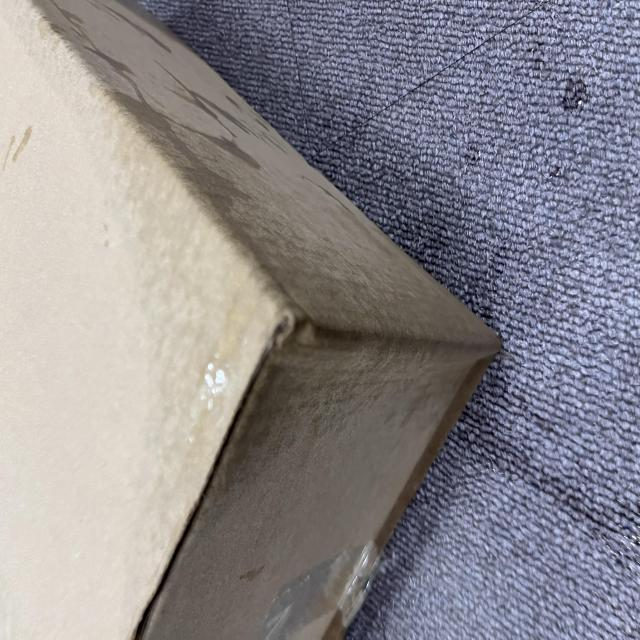wet: (115, 150, 394, 640)
